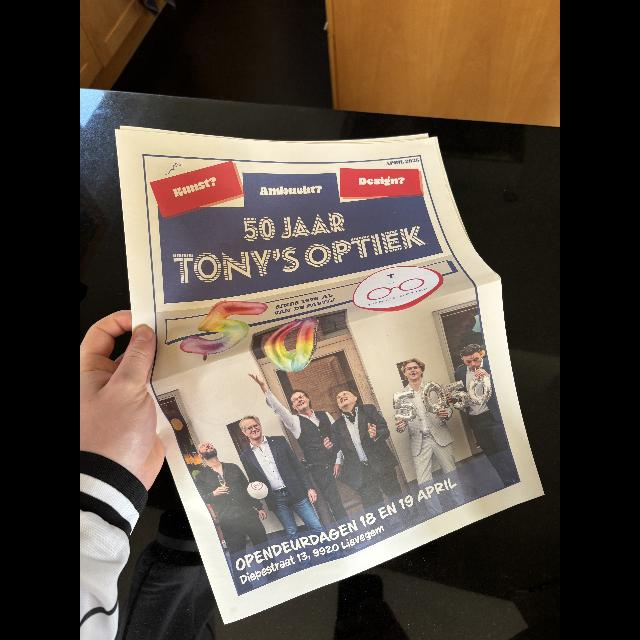Paper: (107, 121, 549, 626)
